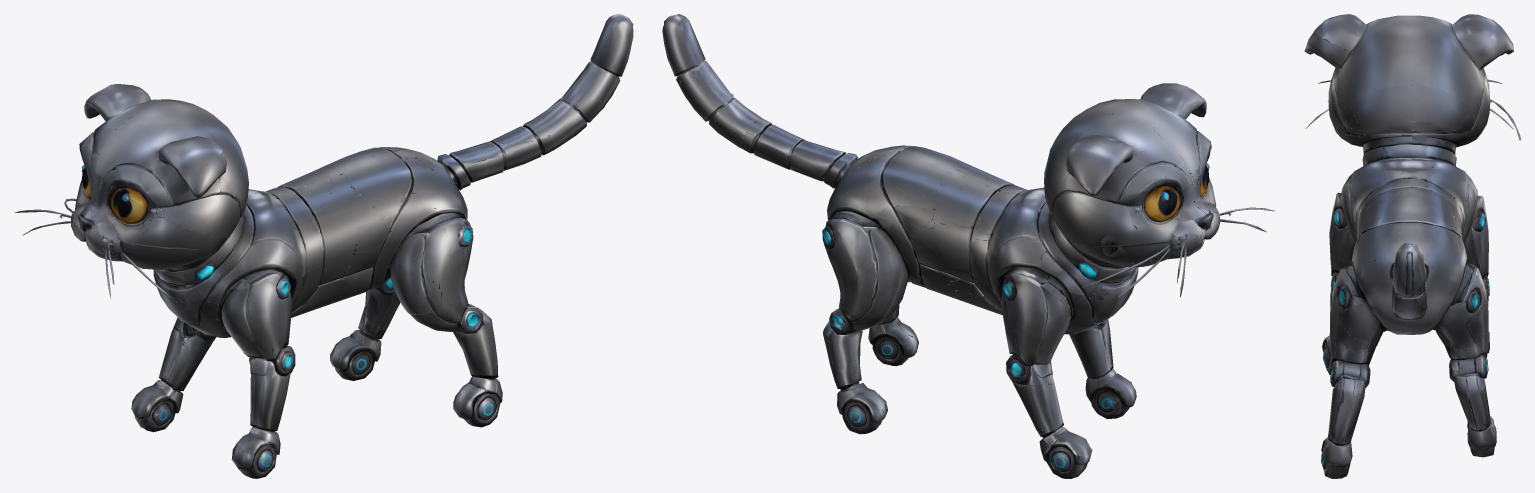
3 views of the same model, side by side, from view 1: azimuth 30°, elevation 25°; view 2: azimuth 150°, elevation 25°; view 3: azimuth 270°, elevation 25° (orthographic). The views are drawn at different scales.
Visible parts, largest first — view 1: tripo_node_b29dfede-f544-40a5-a46e-fabd1ba4a19a; view 2: tripo_node_b29dfede-f544-40a5-a46e-fabd1ba4a19a; view 3: tripo_node_b29dfede-f544-40a5-a46e-fabd1ba4a19a.
Boxes of the visible parts, <box> form: tripo_node_b29dfede-f544-40a5-a46e-fabd1ba4a19a: <box>15,14,633,478</box>; tripo_node_b29dfede-f544-40a5-a46e-fabd1ba4a19a: <box>662,14,1274,478</box>; tripo_node_b29dfede-f544-40a5-a46e-fabd1ba4a19a: <box>1304,14,1520,478</box>.
Size of the model in its own units: 0.9796 by 0.5839 by 0.346.
1 material, 1 textured.
